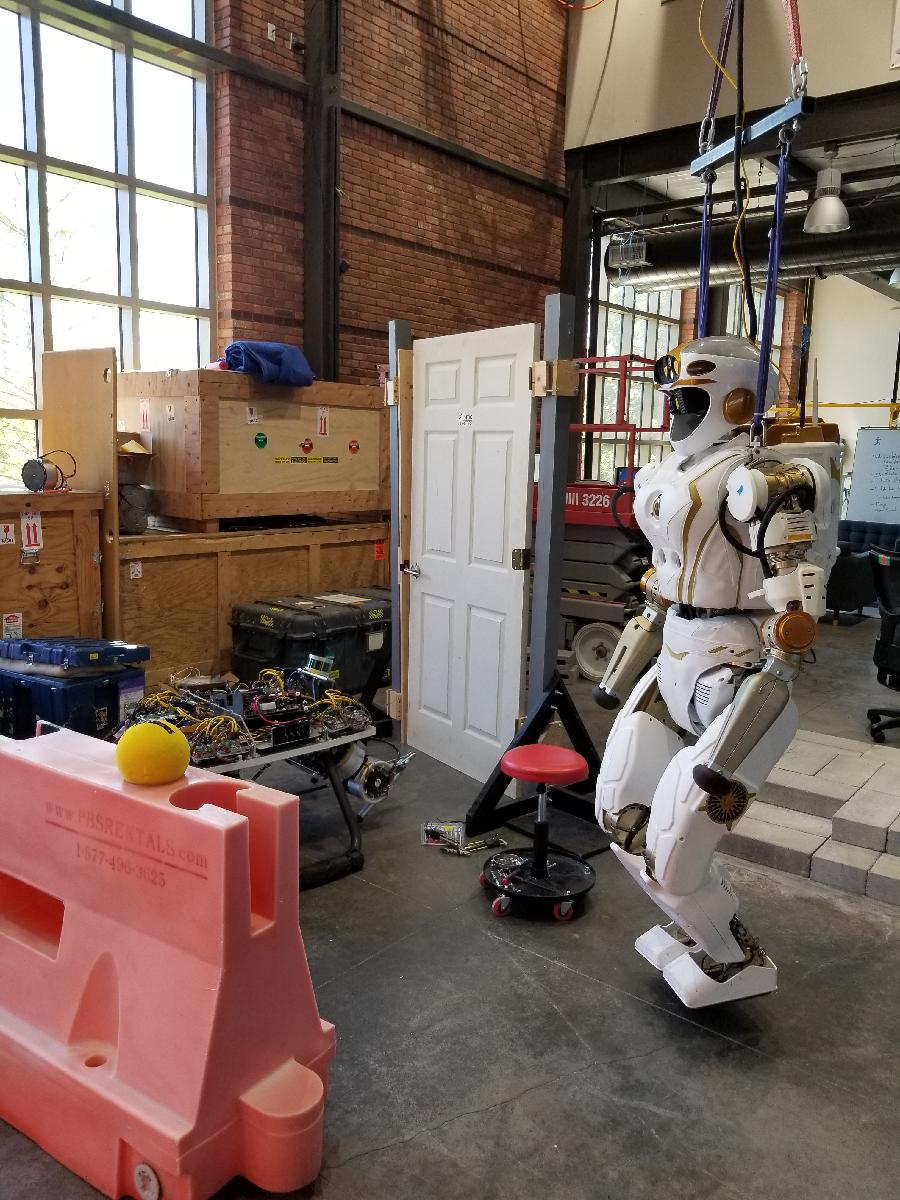door: (404, 320, 542, 804)
doorHandle: (399, 557, 424, 583)
